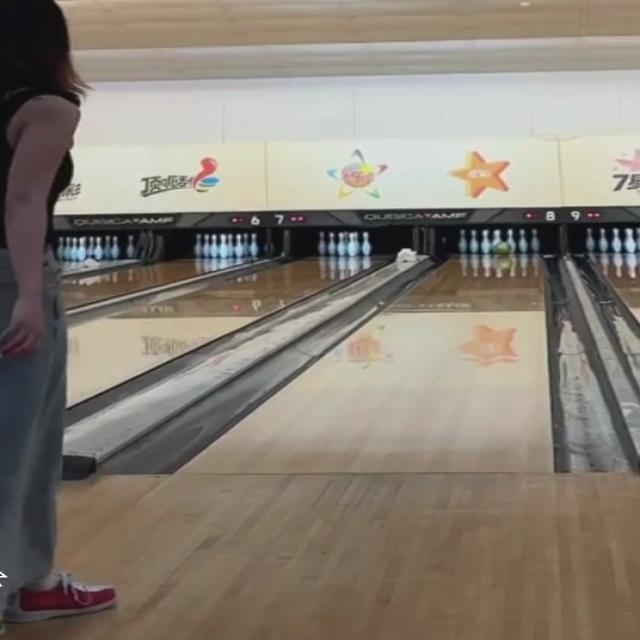alley: (184, 256, 549, 472)
balls: (494, 241, 512, 256)
bottle: (460, 228, 539, 255)
